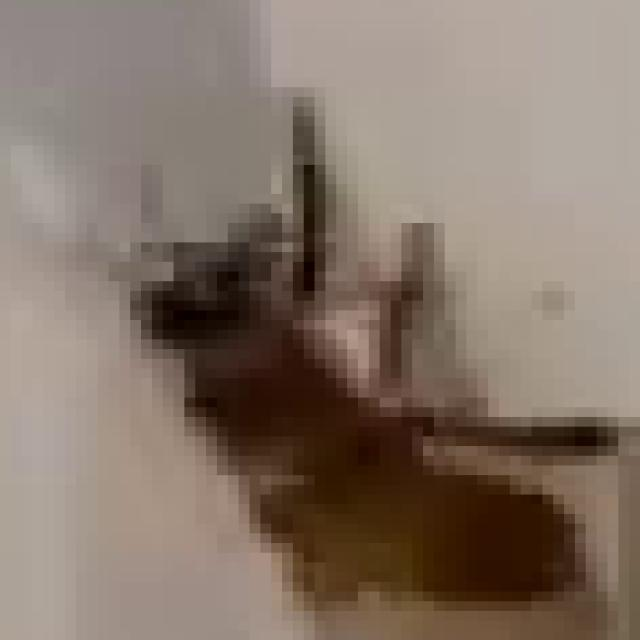honeybee: (92, 164, 582, 593)
